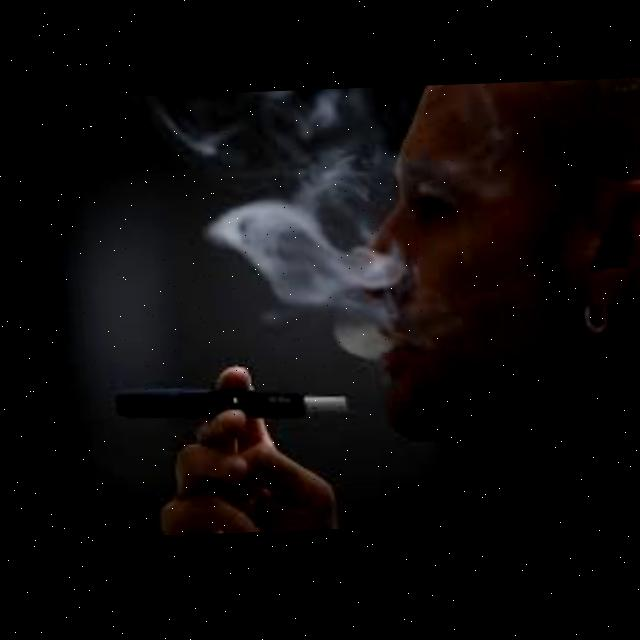vape: (107, 382, 342, 429)
